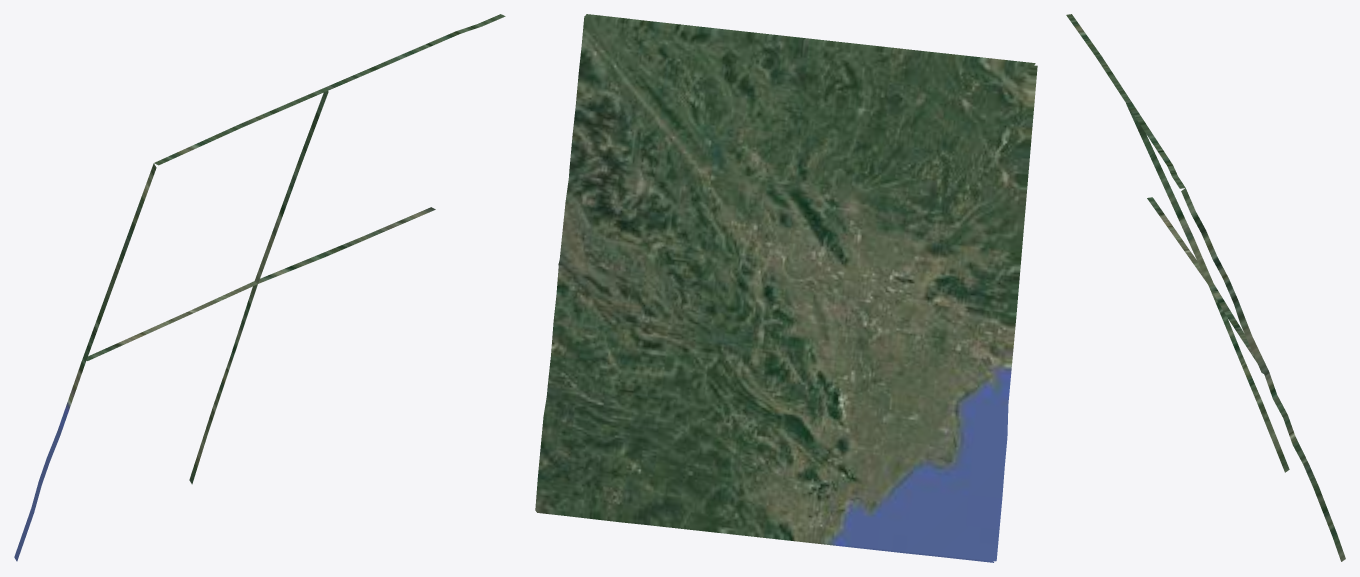
3 views of the same model, side by side, from view 1: azimuth 30°, elevation 25°; view 2: azimuth 150°, elevation 25°; view 3: azimuth 270°, elevation 25° (orthographic). The views are drawn at different scales.
Size of the model in its own units: 315399 by 294773 by 190695.
1 material, 1 textured.
